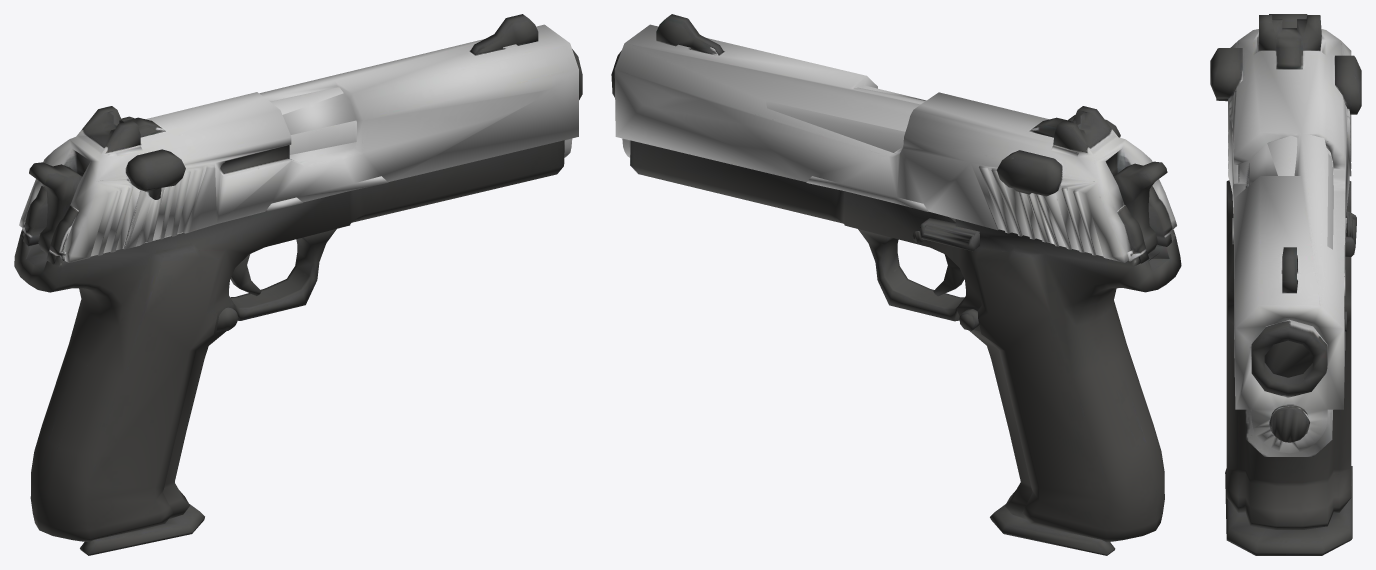
The model's file is desert-eagle.glb.
The picture shows the model from 3 angles, left to right: view 1: azimuth 30°, elevation 25°; view 2: azimuth 150°, elevation 25°; view 3: azimuth 270°, elevation 25°; orthographic projection. The views are drawn at different scales.
Visible parts, largest first — view 1: tripo_node_3040377c-5375-49da-979d-fbe3914a04e8; view 2: tripo_node_3040377c-5375-49da-979d-fbe3914a04e8; view 3: tripo_node_3040377c-5375-49da-979d-fbe3914a04e8.
Boxes of the visible parts, x1,y1,x2,y2 form: tripo_node_3040377c-5375-49da-979d-fbe3914a04e8: (14, 14, 582, 555); tripo_node_3040377c-5375-49da-979d-fbe3914a04e8: (611, 14, 1181, 555); tripo_node_3040377c-5375-49da-979d-fbe3914a04e8: (1210, 14, 1361, 555).
Bounding box in the file's own units: 0.2466 × 0.18 × 0.0497.
Materials: 1 (1 with a texture image).
